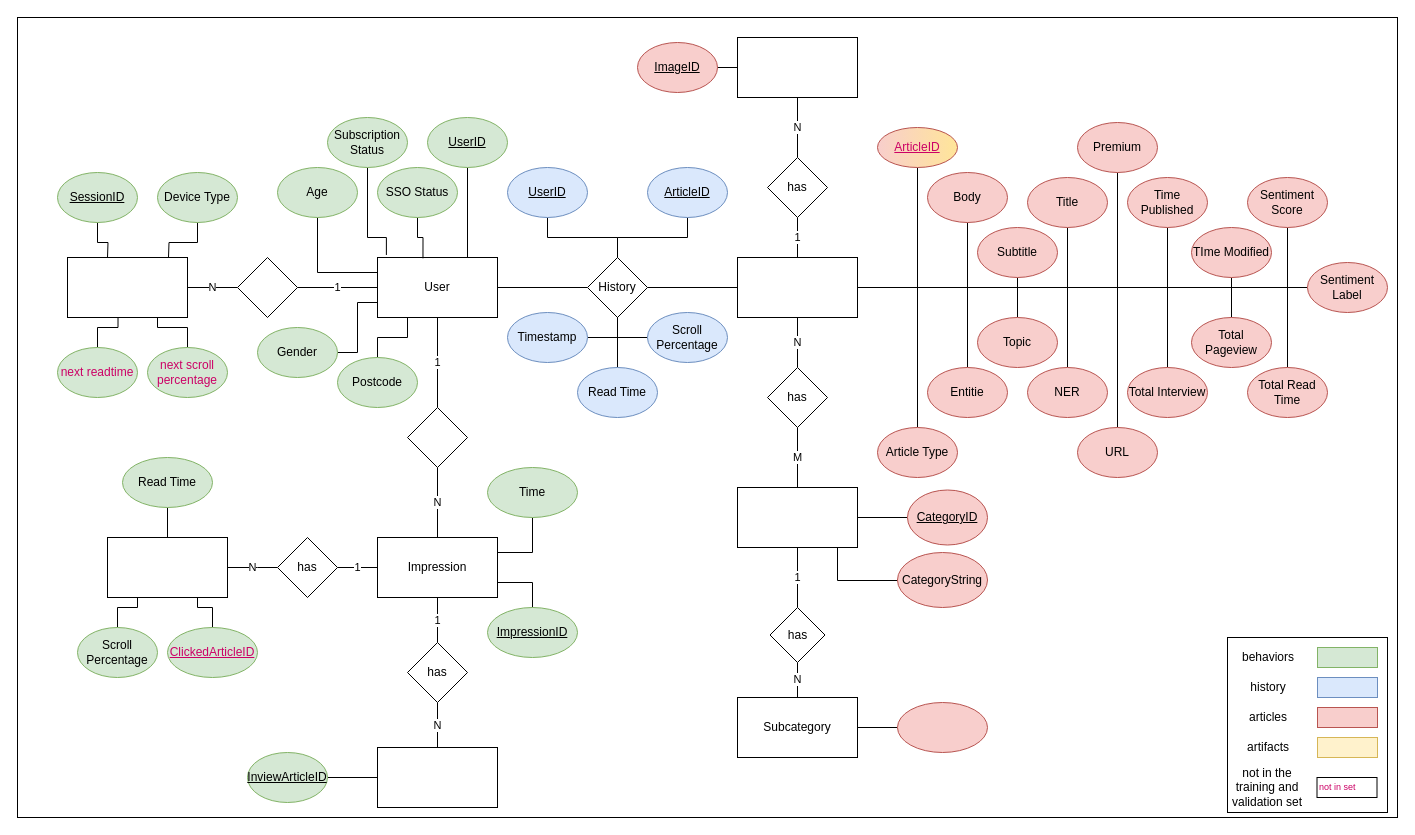
Image size: 1415x835. Some labels were removed from this diagram. The shapes that lost their labels are listed below. From the top down, each one's centre as x and y in pixels, then its label:
(x=797, y=67): Image
(x=127, y=287): Session
(x=267, y=287): have
(x=797, y=287): Article
(x=437, y=437): create
(x=797, y=517): Category
(x=167, y=567): Clicked Article
(x=942, y=727): SubcategoryID
(x=437, y=777): Inview Article
